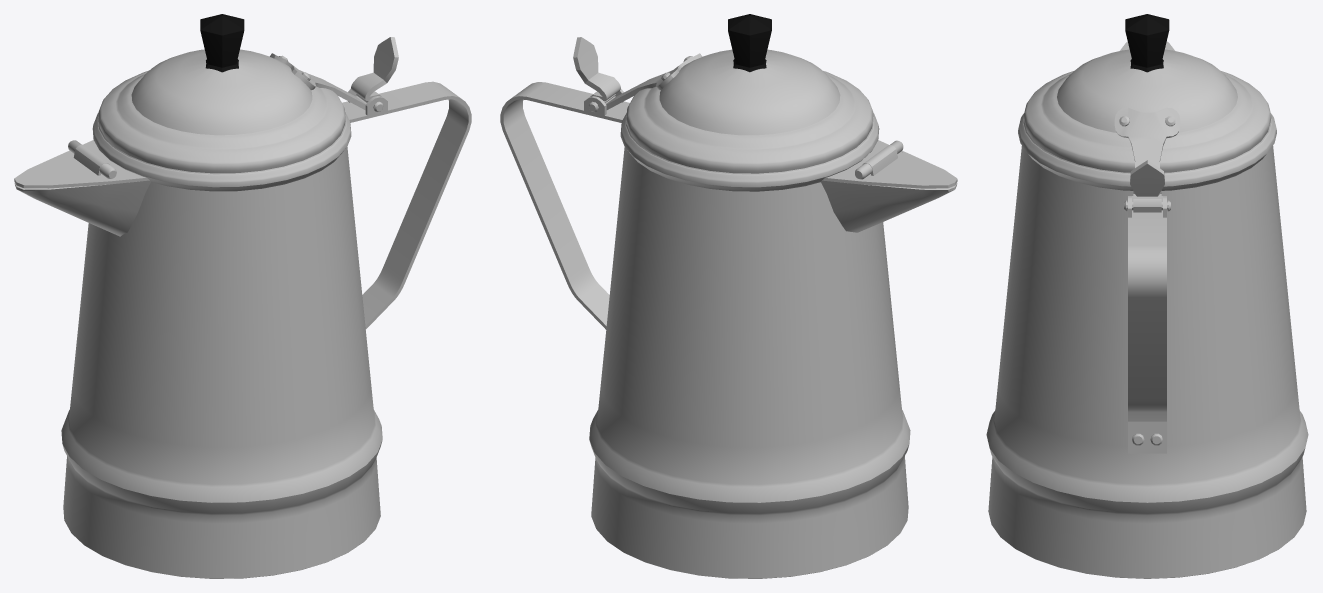
File: teapot.glb
3 renders of one model, left to right at view 1: azimuth 30°, elevation 25°; view 2: azimuth 150°, elevation 25°; view 3: azimuth 270°, elevation 25°, orthographic.
Parts seen in each view (by area): view 1: Line001; view 2: Line001; view 3: Line001.
Boxes of the visible parts, x1,y1,x2,y2 form: Line001: [14, 14, 471, 578]; Line001: [500, 14, 957, 578]; Line001: [986, 14, 1308, 578].
Bounding box in the file's own units: 45.63 × 48.6 × 28.59.
1 material, 1 textured.
